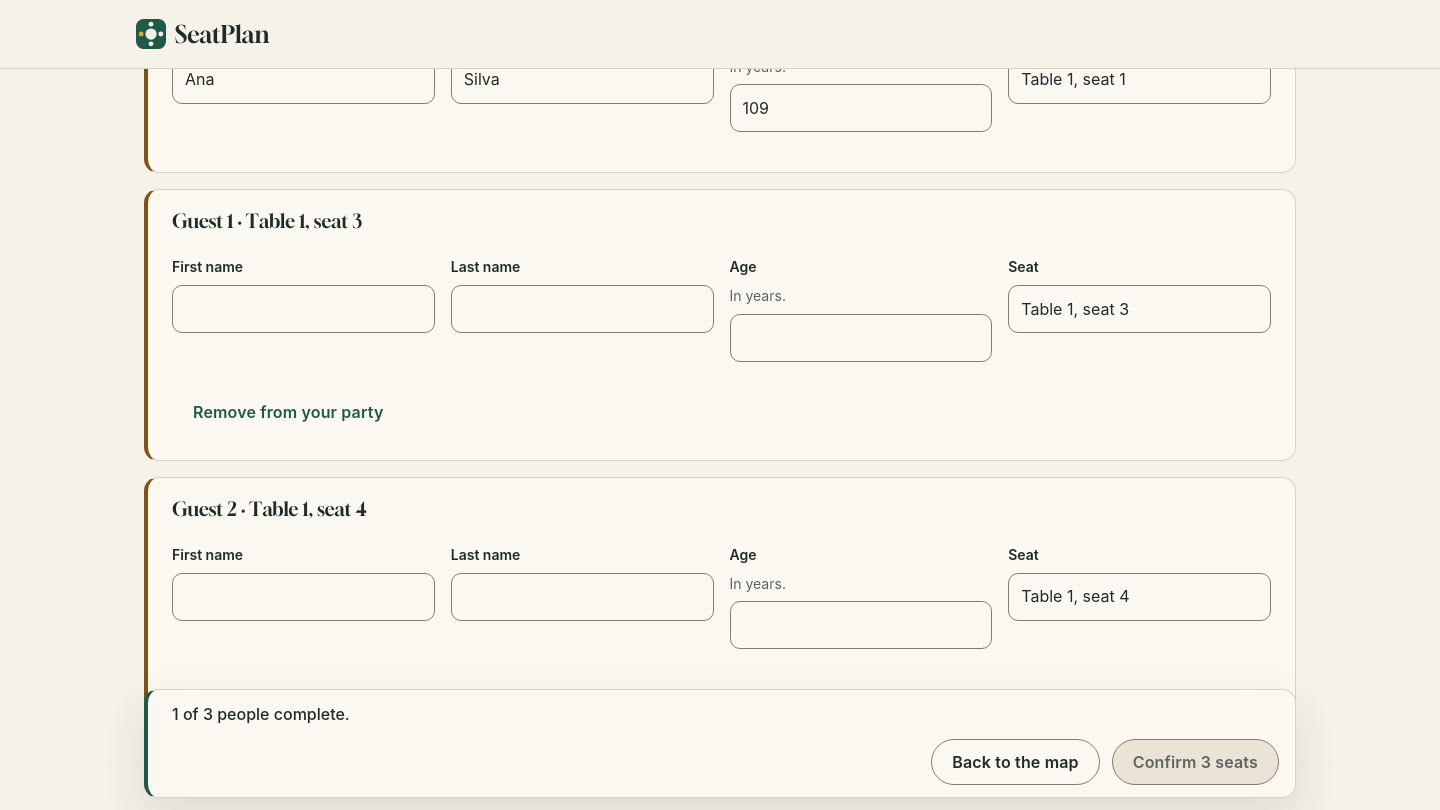
Test: Who is sitting where? › books three seats, the booker first, with a name and an age for everyone
Earlier steps of the test are not shown.
(page scrolled)
Step 1. Type "Bea" into the field labelled "First name" below "Guest 1" → x=303, y=309, box [172,285,435,333]
Step 2. Type "Silva" into the field labelled "Last name" below "Guest 1" → x=582, y=309, box [451,285,714,333]
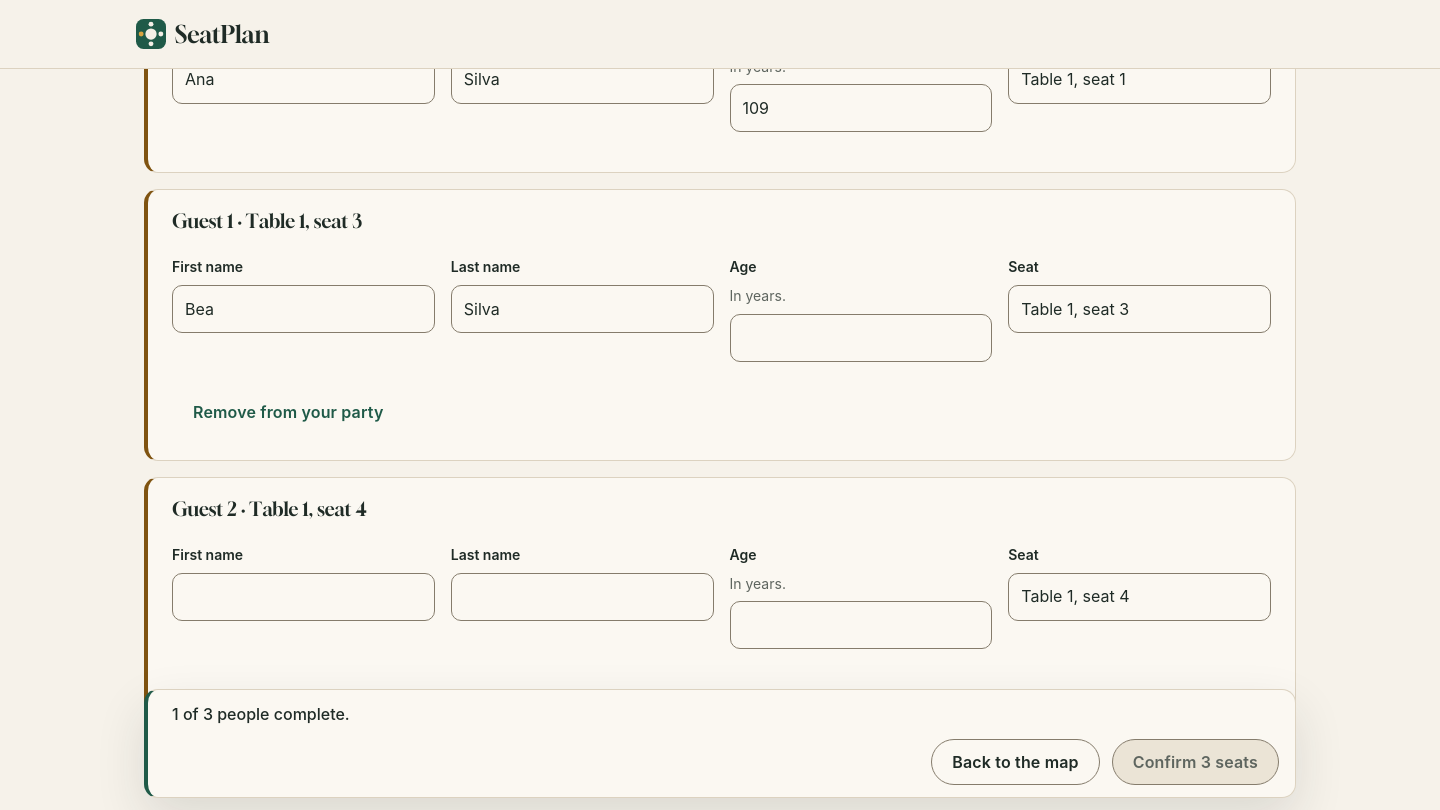
Step 3. Type "113" into the 2nd field labelled "Age" → x=861, y=338, box [730,314,992,362]
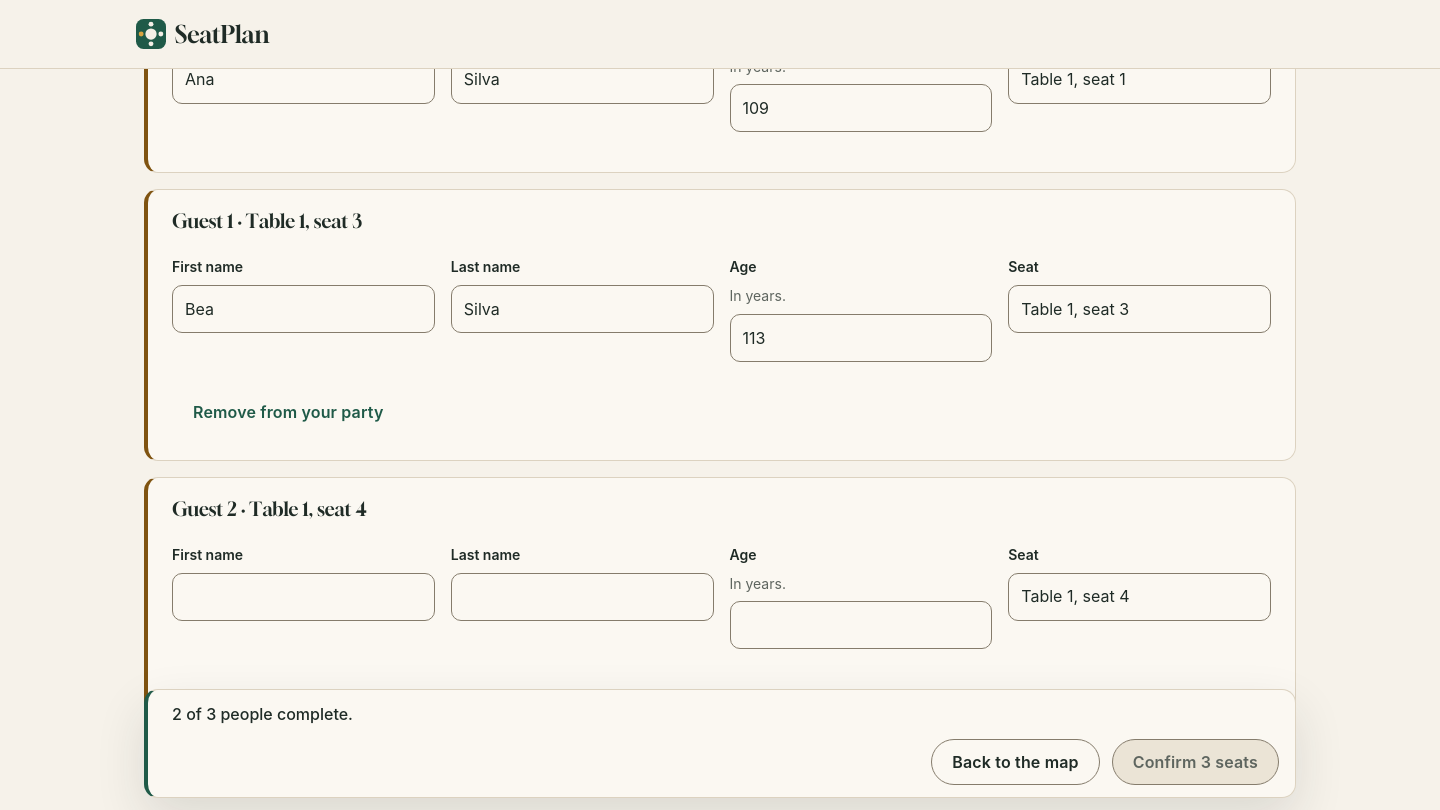
Expected: the text "2 of 3 people complete." is shown, [172,704,353,724]
Step 4. Type "Rui" into the field labelled "First name" below "Guest 2" → x=303, y=597, box [172,573,435,621]
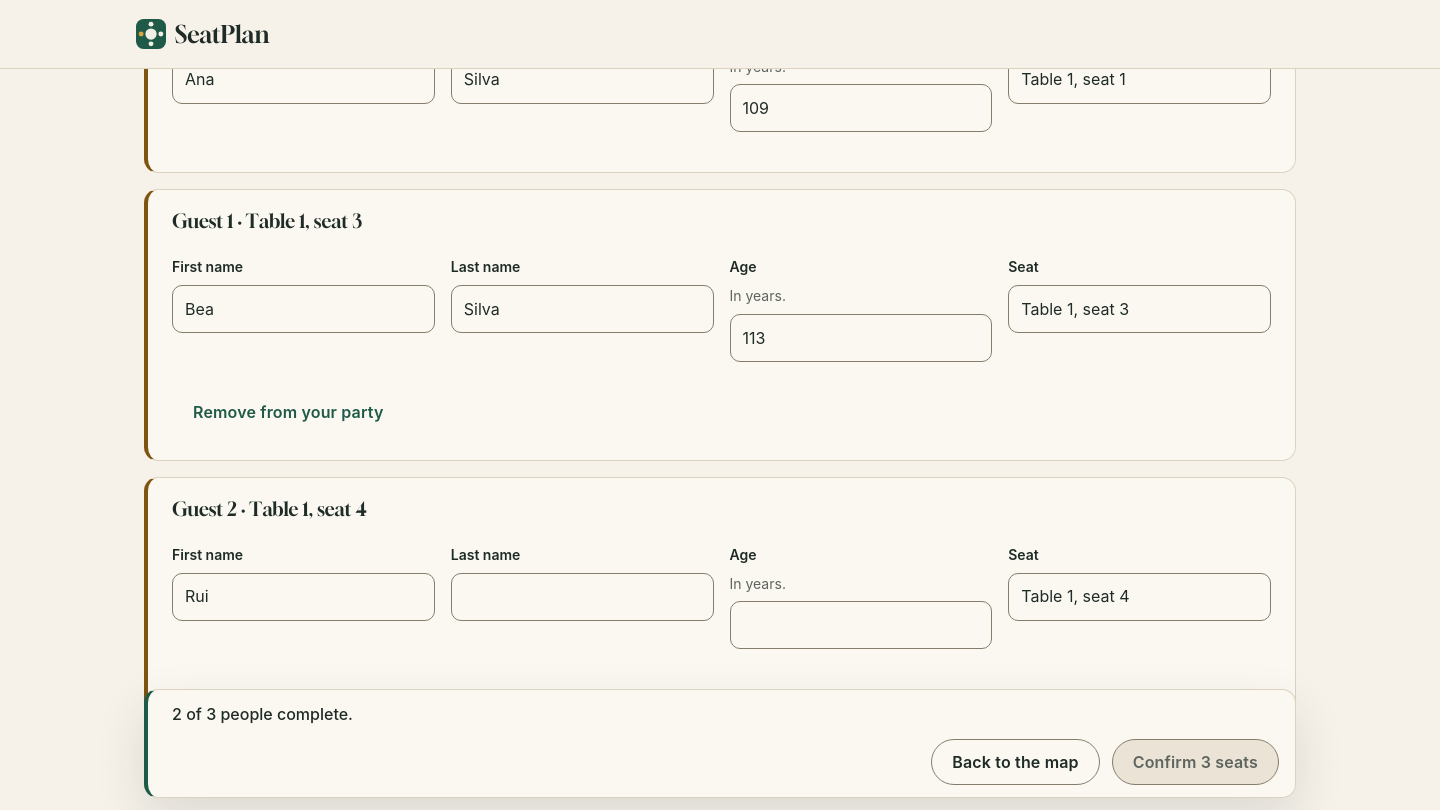
Step 5. Type "Silva" into the field labelled "Last name" below "Guest 2" → x=582, y=597, box [451,573,714,621]
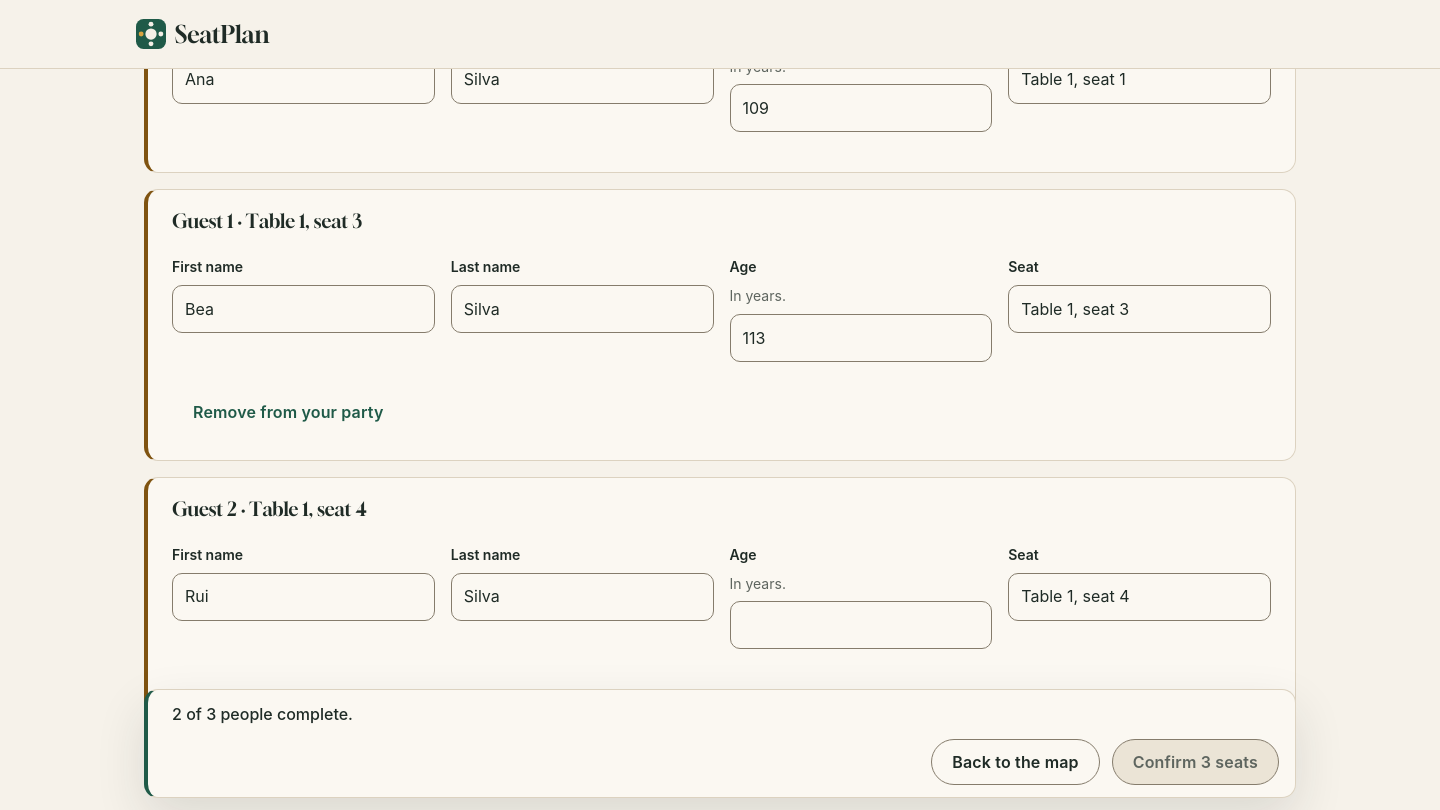
Step 6. Type "117" into the 3rd field labelled "Age" → x=861, y=625, box [730,601,992,649]
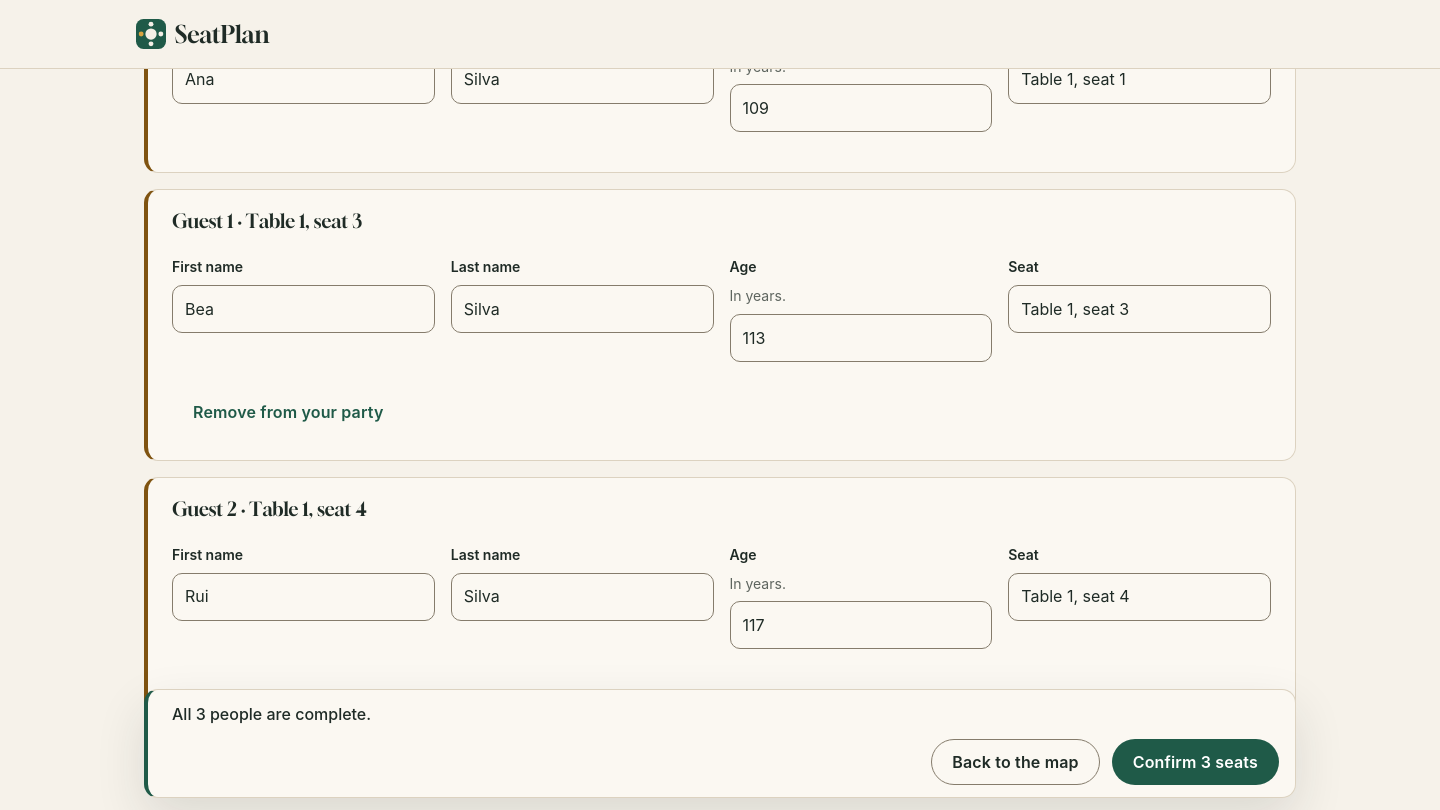
Expected: the text "All 3 people are complete." is shown, [172,704,371,724]
Step 7. Click the button "Confirm 3 seats" → x=1195, y=762, box [1112,739,1279,785]
(page scrolled)
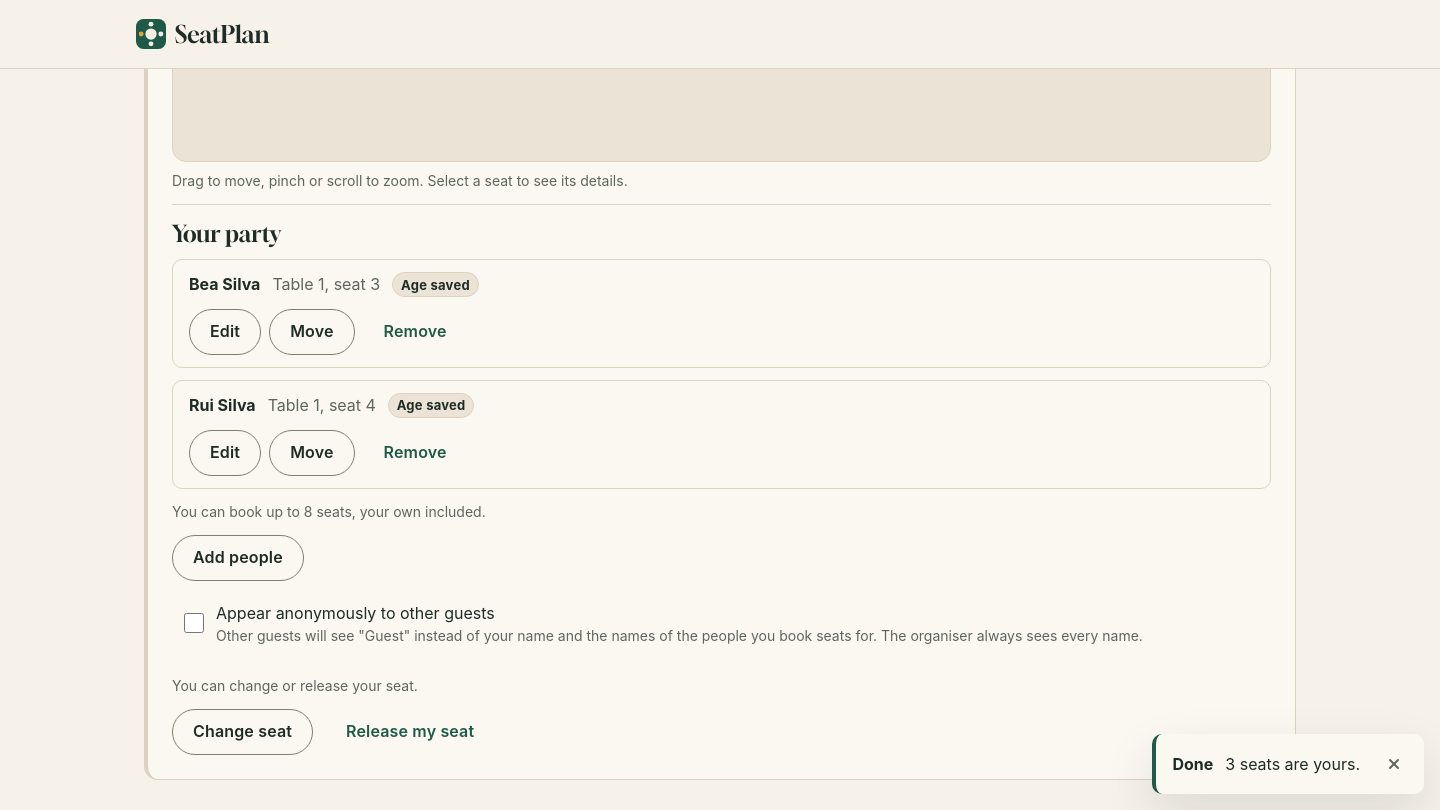
Expected: the text "Table 1, seat 4" is shown, [268,393,376,418]
Expected: the text "Bea Silva" is shown, [189,272,260,297]
Expected: the text "Age saved" is shown 2 times, [392,272,479,297]; [388,393,474,418]
